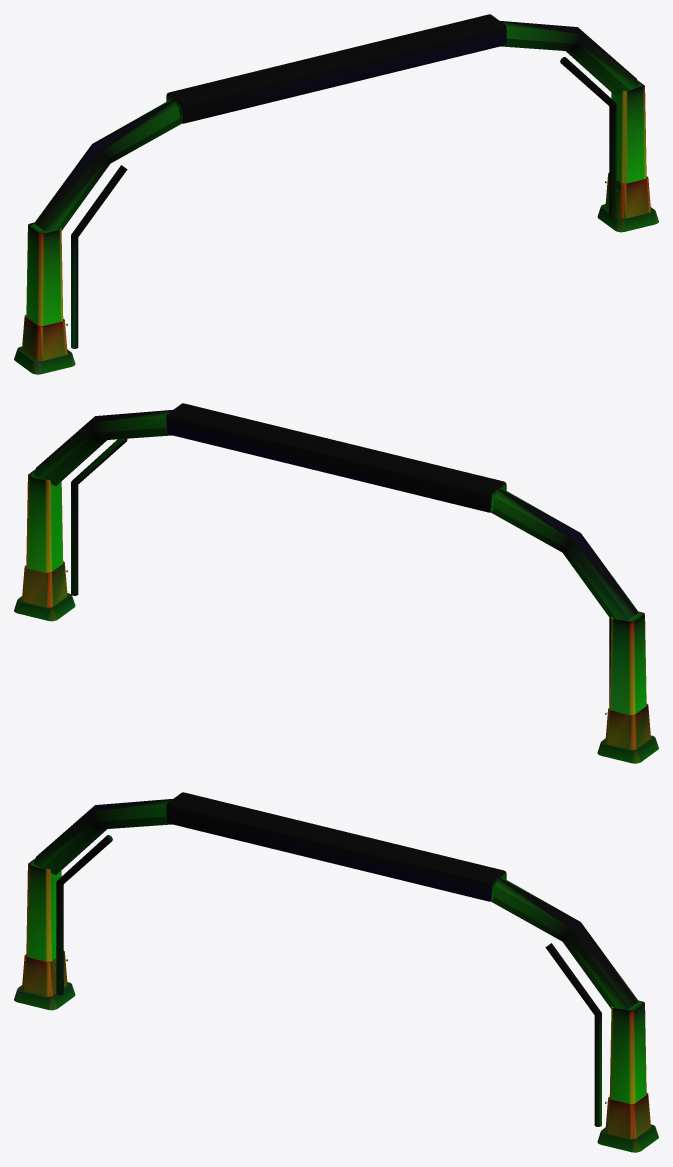
File: hero_ship_rib_arch.glb
3 renders of one model, top to bottom at view 1: azimuth 30°, elevation 25°; view 2: azimuth 150°, elevation 25°; view 3: azimuth 330°, elevation 25°, orthographic.
Parts seen in each view (by area): view 1: HeroShipRibArch; view 2: HeroShipRibArch; view 3: HeroShipRibArch.
Boxes of the visible parts, x1,y1,x2,y2 form: HeroShipRibArch: [14, 14, 658, 374]; HeroShipRibArch: [14, 403, 658, 763]; HeroShipRibArch: [14, 792, 658, 1152].
Size of the model in its own units: 13.85 by 4.9 by 0.92.
